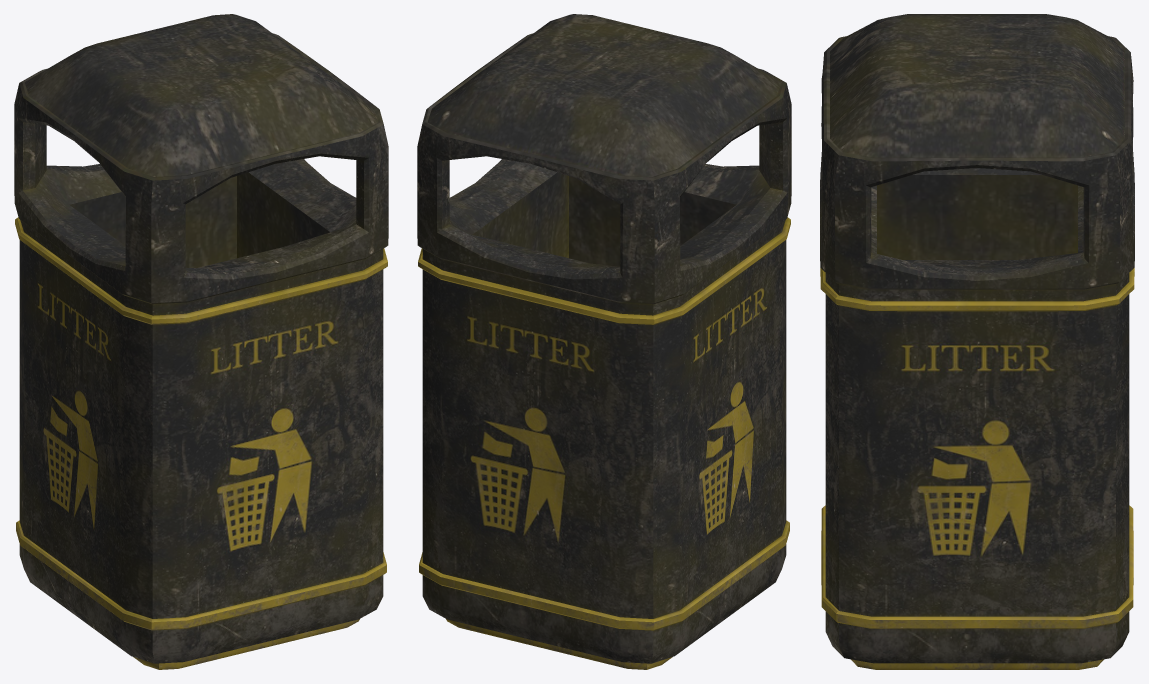
Rendered from street_bin.glb.
The picture shows the model from 3 angles, left to right: view 1: azimuth 30°, elevation 25°; view 2: azimuth 150°, elevation 25°; view 3: azimuth 270°, elevation 25°; orthographic projection. The views are drawn at different scales.
Visible parts, largest first — view 1: g; view 2: g; view 3: g.
Boxes of the visible parts, <box> form: g: <box>14,14,388,669</box>; g: <box>417,14,791,669</box>; g: <box>820,14,1134,669</box>.
Bounding box in the file's own units: 1.01 × 2 × 1.01.
1 material, 1 textured.
